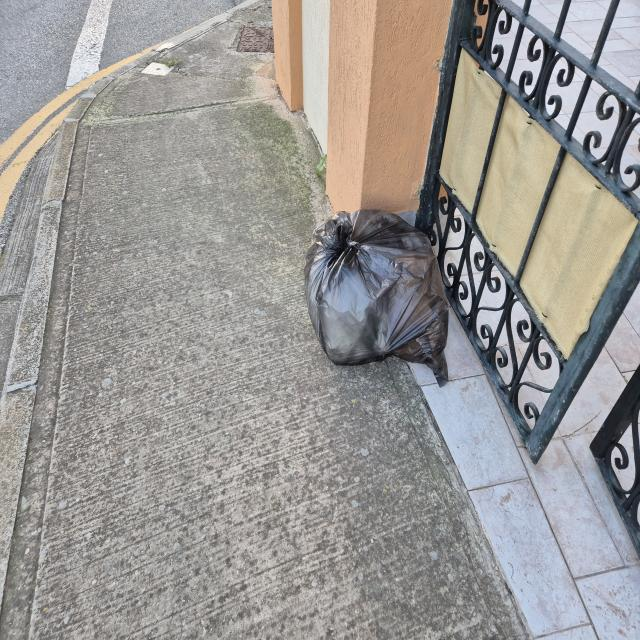black_bag: (303, 189, 453, 388)
